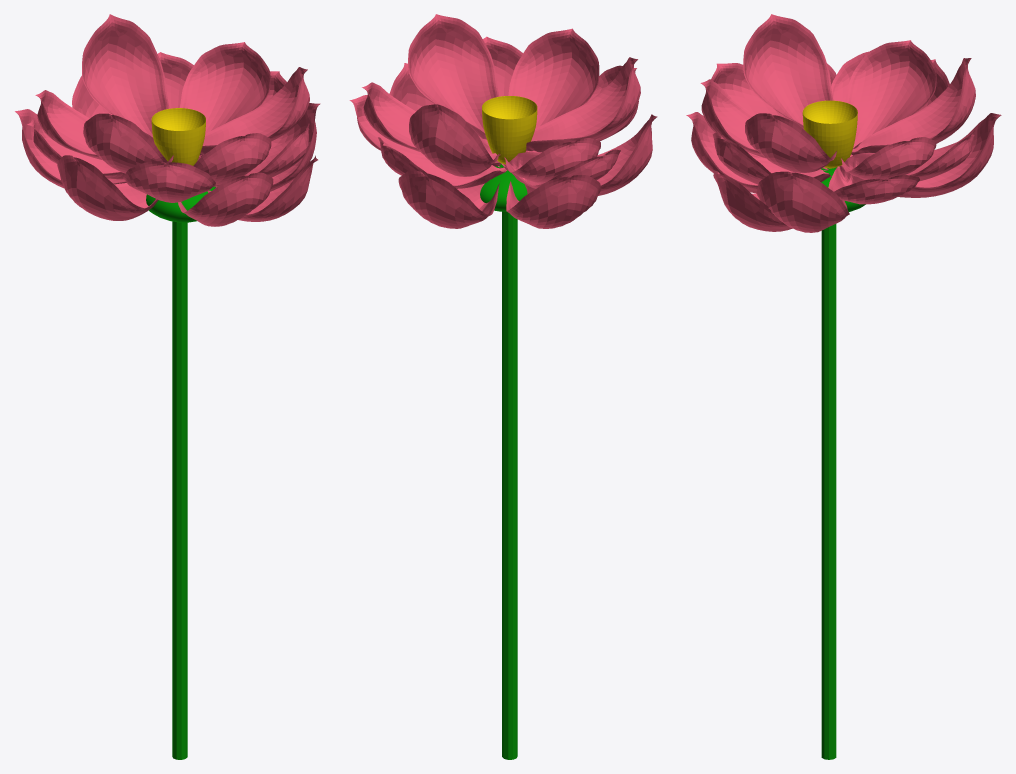
The model's file is Lotus071.fbx.
3 renders of one model, left to right at view 1: azimuth 30°, elevation 25°; view 2: azimuth 150°, elevation 25°; view 3: azimuth 270°, elevation 25°, orthographic. The views are drawn at different scales.
Parts seen in each view (by area): view 1: pCylinder1, nurbsToPoly23, nurbsToPoly19, nurbsToPoly11, nurbsToPoly22, nurbsToPoly21, nurbsToPoly8, nurbsToPoly16, pSphere3, nurbsToPoly18, nurbsToPoly20, nurbsToPoly24 (+7 smaller); view 2: pCylinder1, nurbsToPoly22, nurbsToPoly18, nurbsToPoly21, nurbsToPoly23, nurbsToPoly10, nurbsToPoly12, pSphere3, nurbsToPoly20, nurbsToPoly19, nurbsToPoly11, nurbsToPoly17 (+6 smaller); view 3: pCylinder1, nurbsToPoly21, nurbsToPoly20, nurbsToPoly9, nurbsToPoly23, nurbsToPoly22, pSphere3, nurbsToPoly19, nurbsToPoly10, nurbsToPoly18, nurbsToPoly15, nurbsToPoly24 (+5 smaller).
Part boxes in pixels (box(x1,y1,x2,y2)): pCylinder1: box(172, 221, 187, 759); nurbsToPoly23: box(82, 14, 169, 142); nurbsToPoly19: box(179, 42, 270, 133); nurbsToPoly11: box(57, 155, 158, 220); nurbsToPoly22: box(199, 67, 309, 155); nurbsToPoly21: box(83, 113, 173, 173); nurbsToPoly8: box(178, 172, 273, 226); nurbsToPoly16: box(123, 161, 215, 202); pSphere3: box(151, 108, 205, 165); nurbsToPoly18: box(193, 133, 271, 185); nurbsToPoly20: box(35, 90, 101, 159); nurbsToPoly24: box(216, 155, 317, 221); pCylinder1: box(502, 211, 517, 759); nurbsToPoly22: box(408, 14, 498, 139); nurbsToPoly18: box(508, 28, 599, 128); nurbsToPoly21: box(526, 57, 640, 152); nurbsToPoly23: box(409, 104, 500, 176); nurbsToPoly10: box(398, 170, 499, 228); nurbsToPoly12: box(506, 175, 600, 228); pSphere3: box(482, 96, 537, 164); nurbsToPoly20: box(504, 138, 600, 182); nurbsToPoly19: box(362, 82, 492, 153); nurbsToPoly11: box(597, 114, 657, 195); nurbsToPoly17: box(378, 137, 506, 188); pCylinder1: box(821, 224, 836, 759); nurbsToPoly21: box(743, 14, 833, 129); nurbsToPoly20: box(845, 40, 936, 148); nurbsToPoly9: box(757, 171, 849, 232); nurbsToPoly23: box(851, 58, 975, 155); nurbsToPoly22: box(745, 113, 836, 172); pSphere3: box(802, 100, 857, 168); nurbsToPoly19: box(841, 137, 936, 179); nurbsToPoly10: box(898, 113, 1001, 197); nurbsToPoly18: box(700, 79, 765, 158); nurbsToPoly15: box(828, 165, 919, 204); nurbsToPoly24: box(713, 170, 792, 231).
Size of the model in its own units: 19.11 by 49.59 by 20.3.
